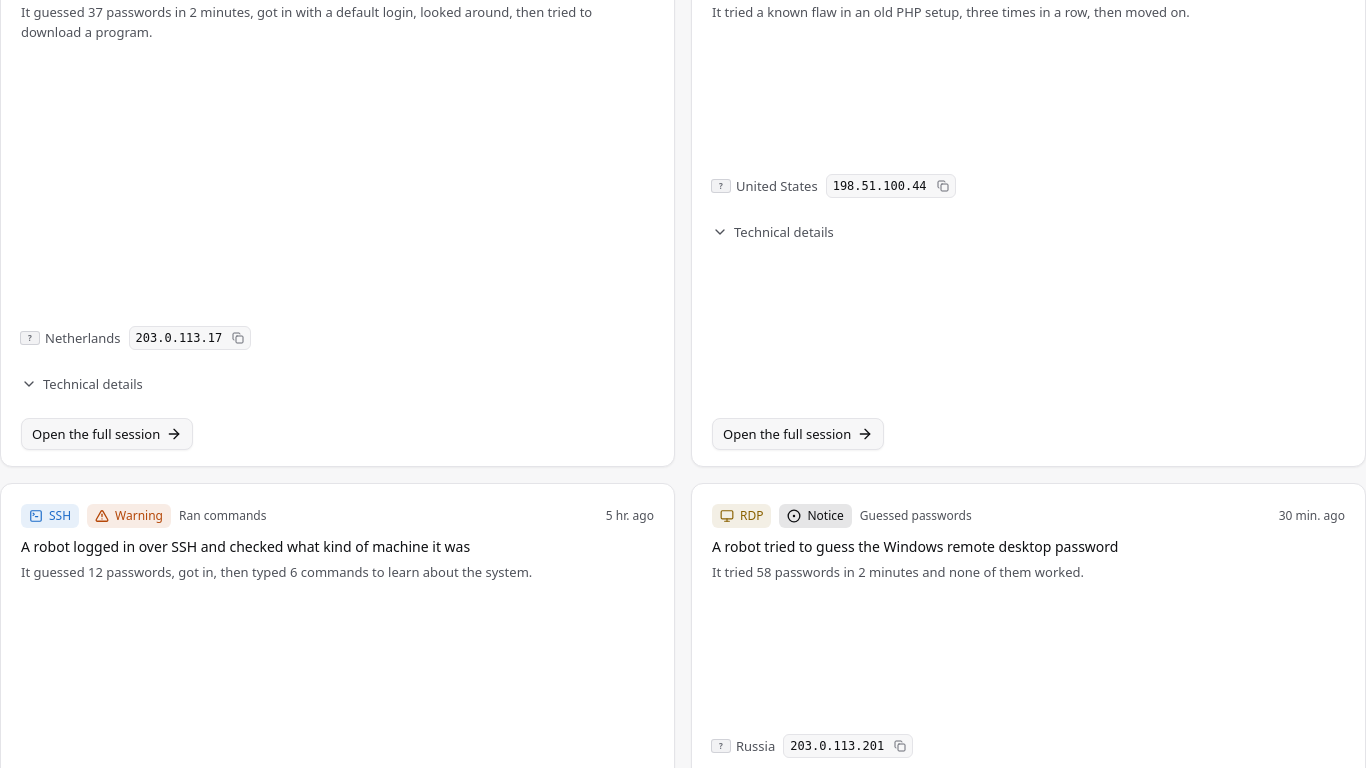
TodayPage › keeps the technical lines behind a disclosure
(page scrolled)
Expected: the text "busybox ECCHI" is not shown
Click the button "Technical details" below "203.0.113.17".
click(82, 384)  # box [21,366,143,402]
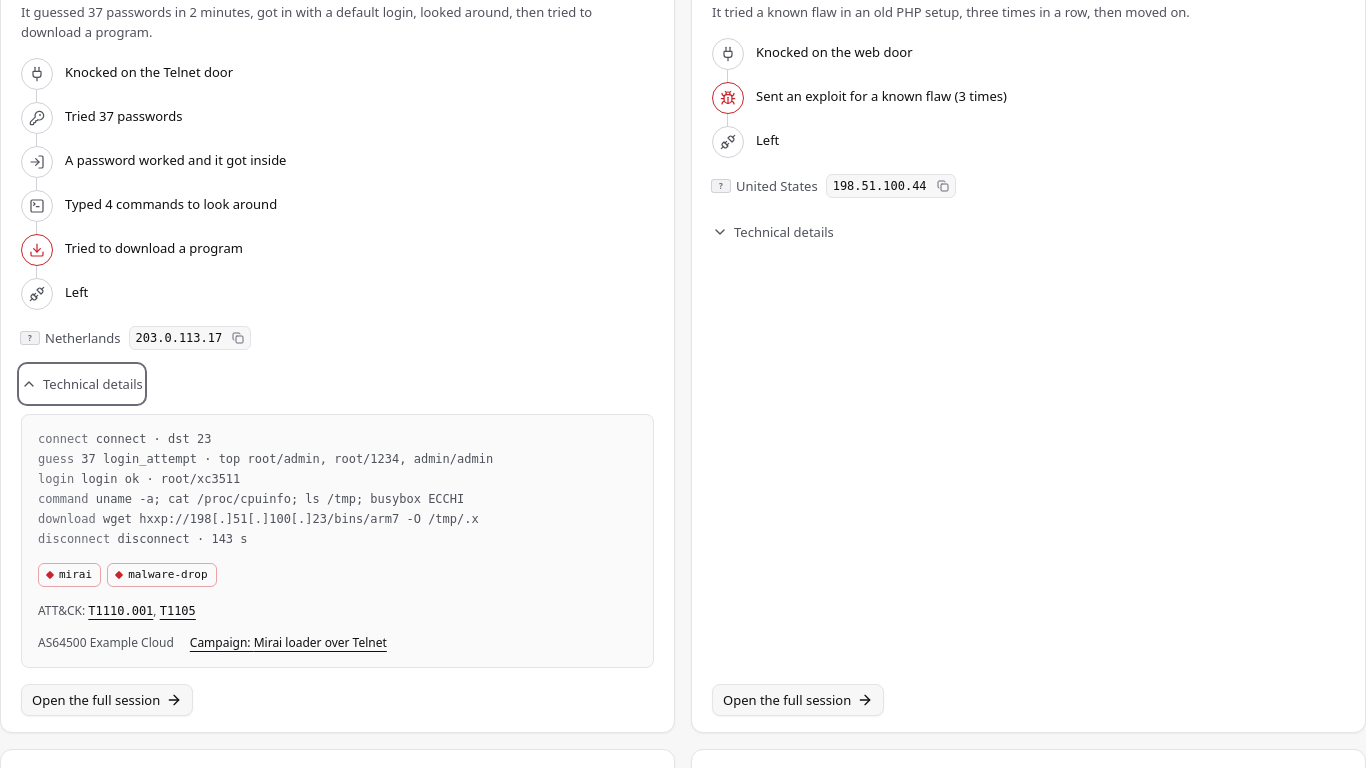
Now the list item "command uname -a; cat /proc/cpuinfo; ls /tmp; busybox ECCHI" is shown, box [38,492,464,506]
